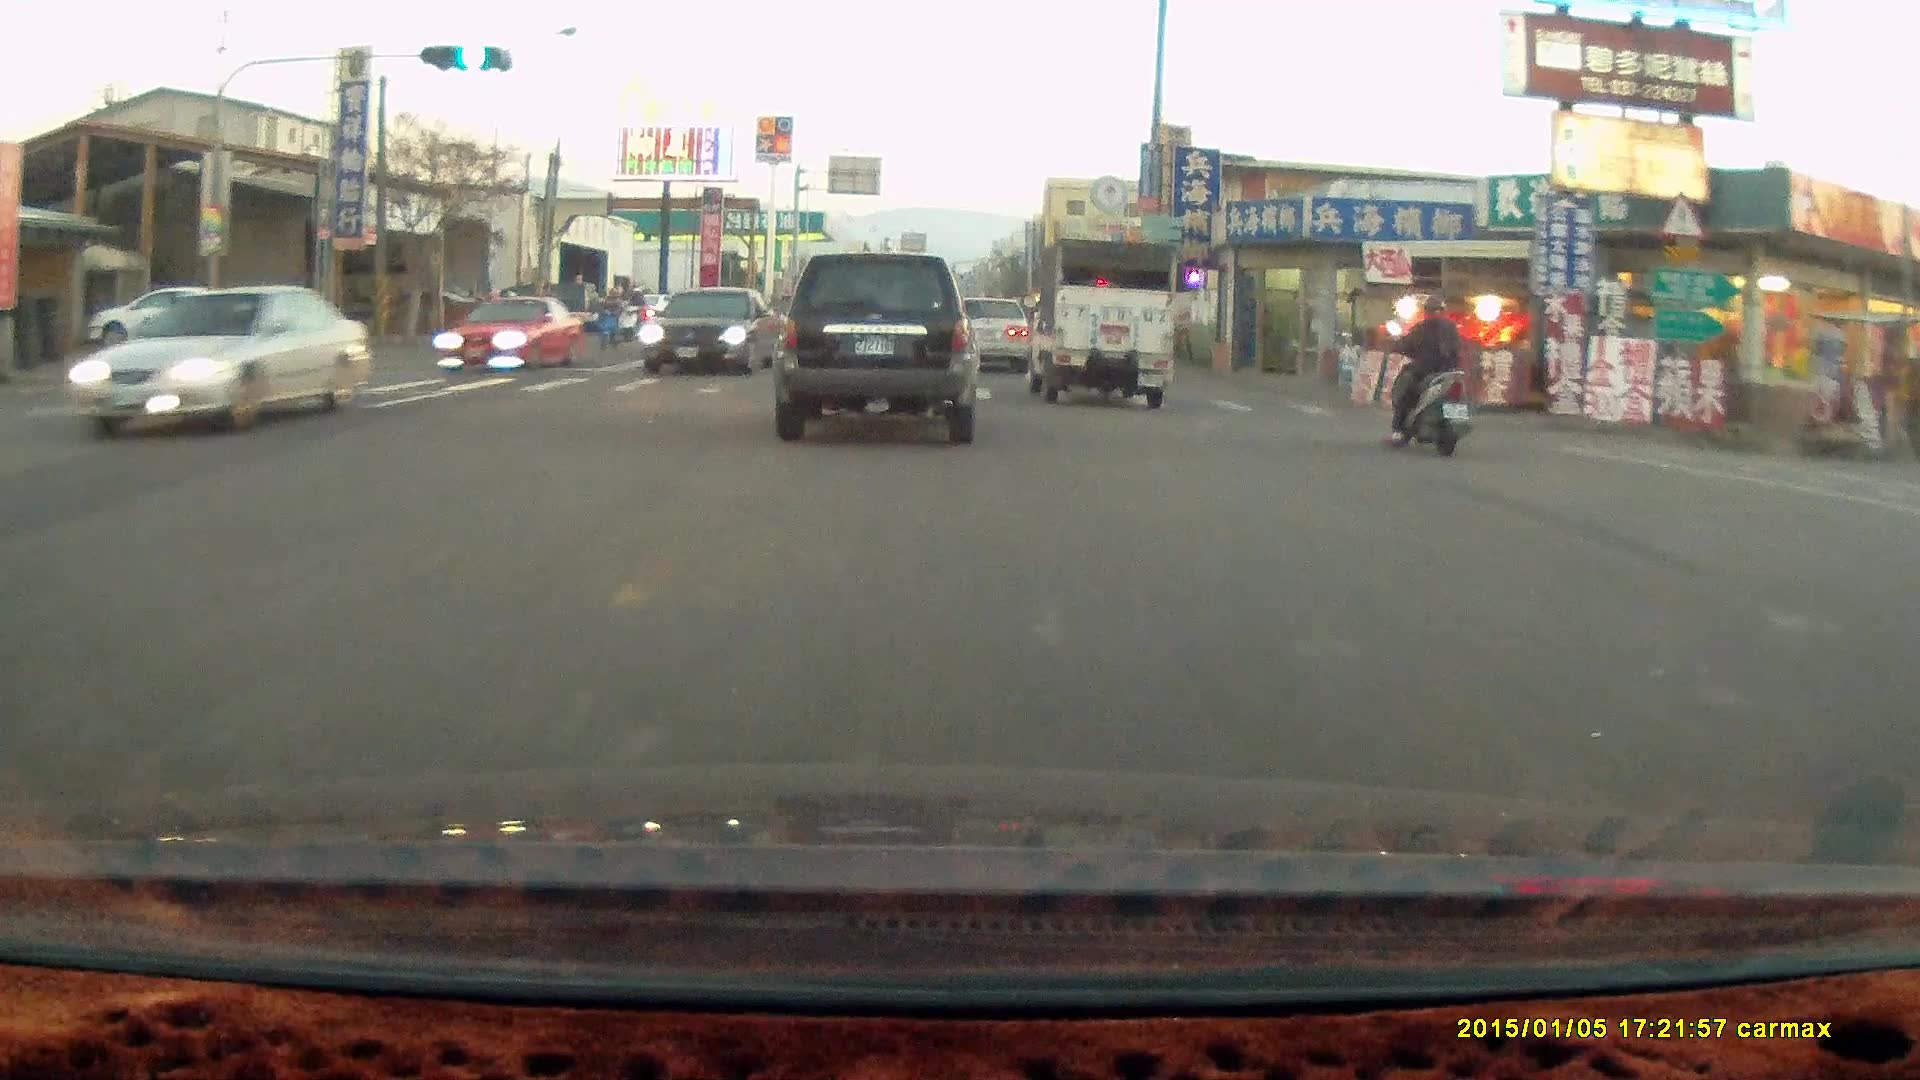rider: (1382, 281, 1470, 444), (591, 289, 627, 346), (617, 284, 653, 339)
vehicle: (59, 285, 370, 448), (771, 251, 984, 445), (1020, 236, 1174, 408), (639, 285, 789, 380), (438, 291, 584, 371), (88, 287, 252, 353), (942, 293, 1030, 372), (949, 297, 1033, 377)
